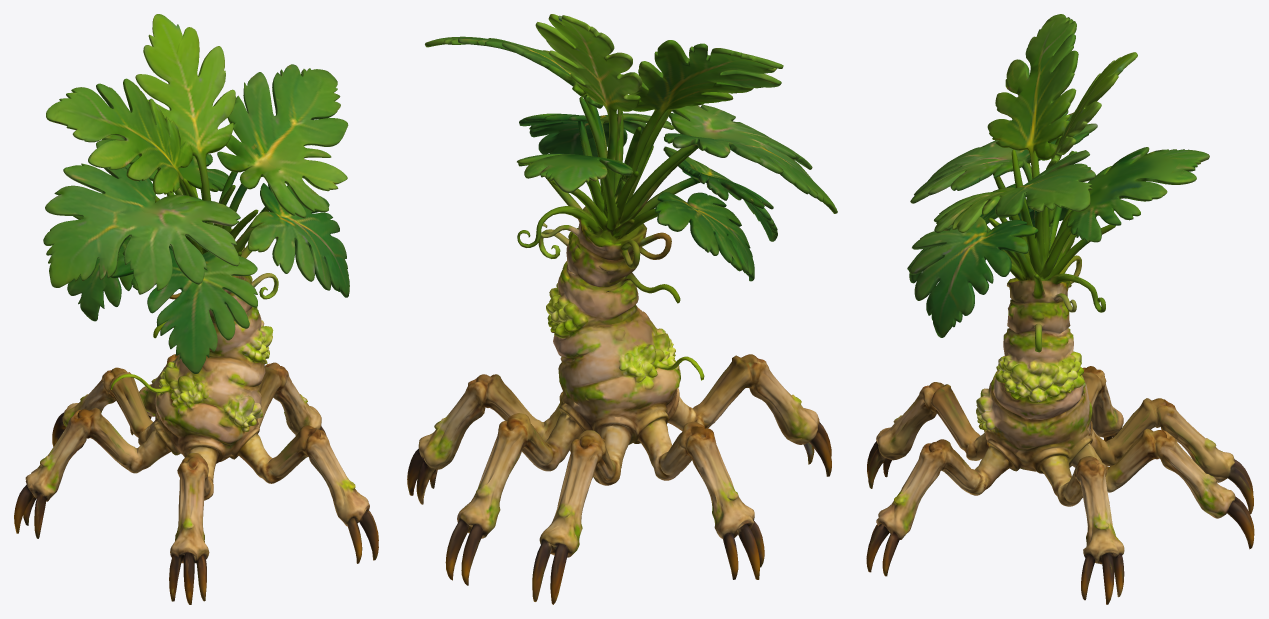
The model's file is plant.glb.
3 renders of one model, left to right at view 1: azimuth 30°, elevation 25°; view 2: azimuth 150°, elevation 25°; view 3: azimuth 270°, elevation 25°, orthographic. The views are drawn at different scales.
Visible parts, largest first — view 1: node_0; view 2: node_0; view 3: node_0.
Boxes of the visible parts, <box> form: node_0: <box>14,14,378,604</box>; node_0: <box>407,14,837,604</box>; node_0: <box>866,14,1254,604</box>.
Size of the model in its own units: 0.6661 by 0.9194 by 0.6776.
Materials: 1 (1 with a texture image).
